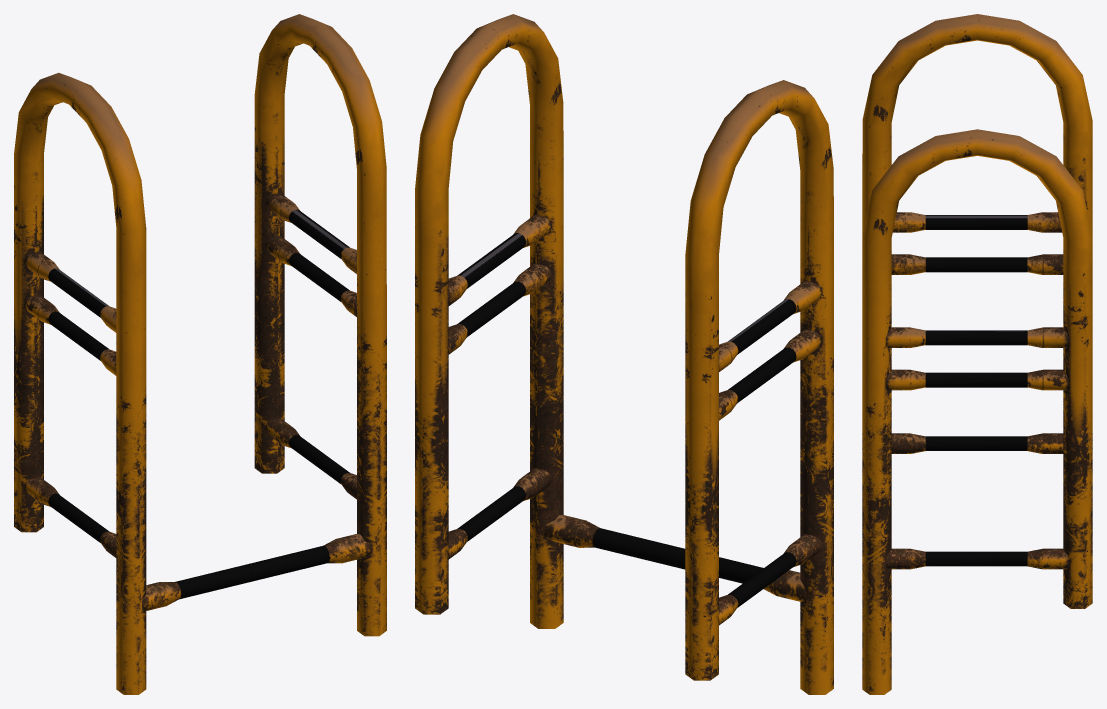
The model's file is LadderTOP001.fbx.
The picture shows the model from 3 angles, left to right: view 1: azimuth 30°, elevation 25°; view 2: azimuth 150°, elevation 25°; view 3: azimuth 270°, elevation 25°; orthographic projection. The views are drawn at different scales.
Visible parts, largest first — view 1: BezierCurve; view 2: BezierCurve; view 3: BezierCurve.
Part boxes in pixels (x1,y1,x2,y2): BezierCurve: [14, 14, 386, 694]; BezierCurve: [415, 14, 833, 694]; BezierCurve: [862, 14, 1092, 694].
Bounding box in the file's own units: 204 × 422 × 157.
1 material, 1 textured.
